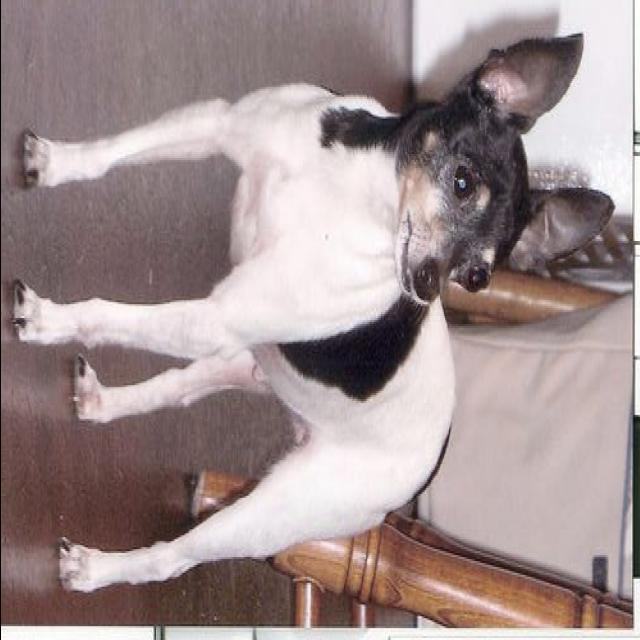toy_terrier: (12, 36, 614, 594)
